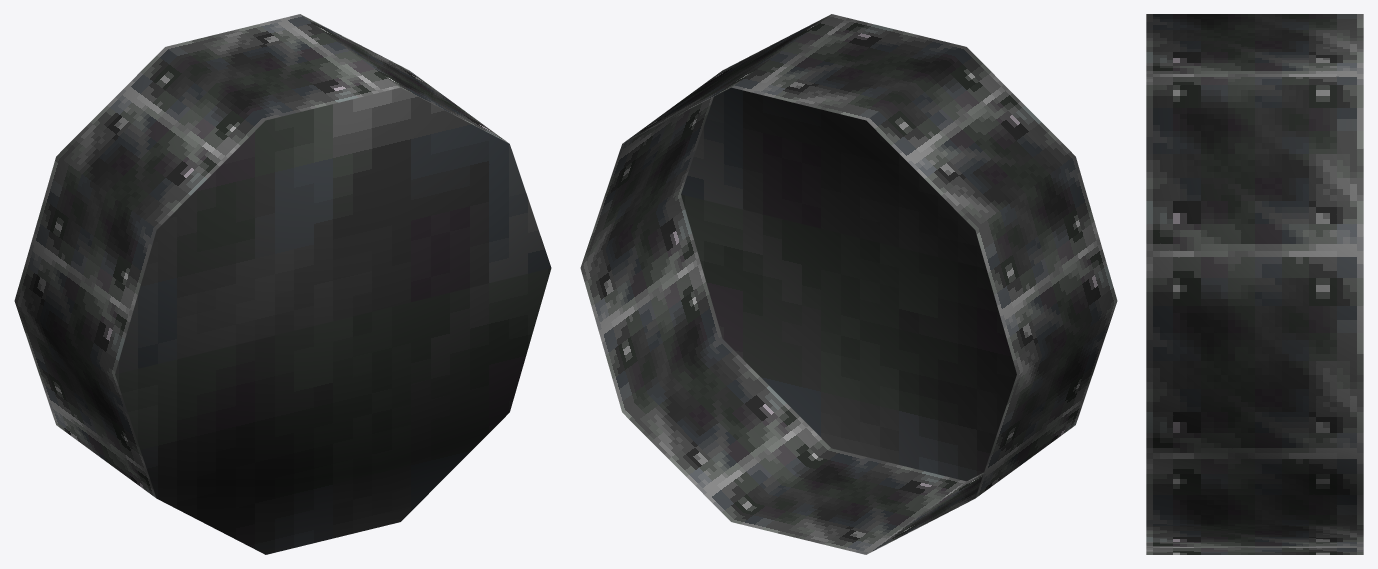
Rendered from HTOWN01_MILLWHEELMOUNT01.fbx.
The picture shows the model from 3 angles, left to right: view 1: azimuth 30°, elevation 25°; view 2: azimuth 150°, elevation 25°; view 3: azimuth 270°, elevation 25°; orthographic projection. The views are drawn at different scales.
Visible parts, largest first — view 1: HTOWN01_MILLWHEELMOUNT01; view 2: HTOWN01_MILLWHEELMOUNT01; view 3: HTOWN01_MILLWHEELMOUNT01.
Boxes of the visible parts, <box> form: HTOWN01_MILLWHEELMOUNT01: <box>14,14,551,554</box>; HTOWN01_MILLWHEELMOUNT01: <box>580,14,1117,554</box>; HTOWN01_MILLWHEELMOUNT01: <box>1146,14,1363,554</box>.
Bounding box in the file's own units: 8929 × 8492 × 3560.
Materials: 1 (1 with a texture image).
